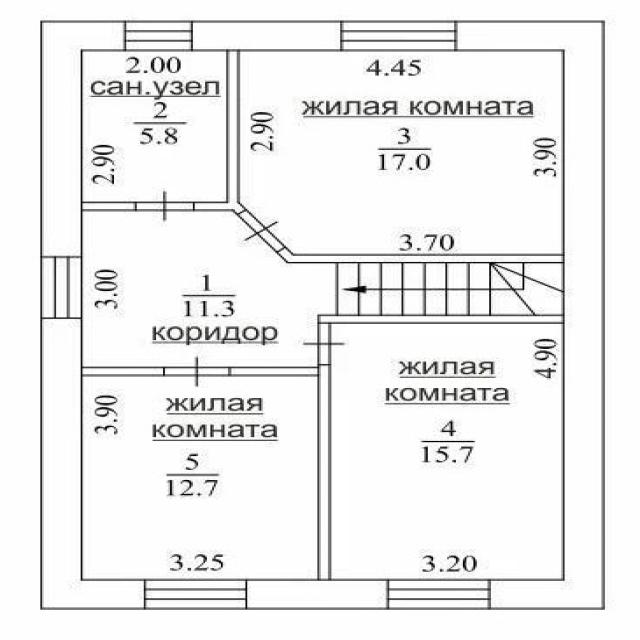Bathrooms: (83, 50, 225, 201)
Corridors: (81, 211, 318, 366)
Doors: (235, 208, 286, 253), (162, 355, 231, 387), (301, 323, 351, 365), (135, 190, 194, 222)
LBwalls: (456, 20, 606, 610), (39, 318, 145, 610), (40, 20, 126, 257), (191, 20, 341, 51), (246, 579, 387, 609)
Offices: (240, 50, 563, 255), (332, 325, 563, 579), (83, 376, 317, 578)
Stairs: (318, 263, 562, 315)
Walls: (228, 365, 332, 581), (194, 49, 245, 215), (276, 246, 564, 263), (318, 316, 563, 324), (83, 366, 163, 376), (81, 201, 137, 211)
Windows: (340, 20, 457, 51), (144, 580, 247, 609), (388, 580, 490, 609), (40, 256, 82, 319), (125, 20, 192, 51)
